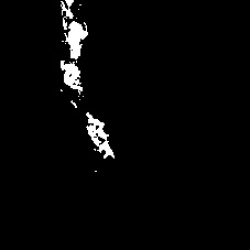crack: (61, 2, 87, 96), (87, 112, 114, 160)
pinhole: (61, 1, 89, 97), (70, 102, 77, 109)
